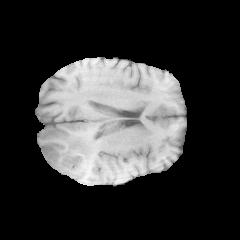glioma: (42, 125, 111, 177)
